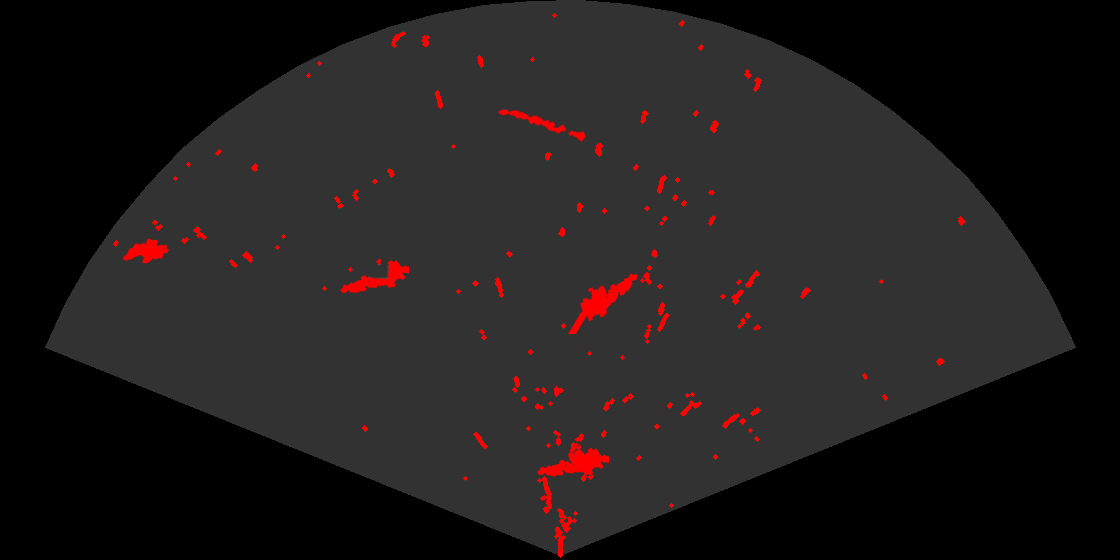AUV: (121, 237, 171, 265)
chain: (497, 108, 588, 143)
frogman: (568, 272, 639, 334), (339, 257, 409, 295), (535, 443, 609, 478)
